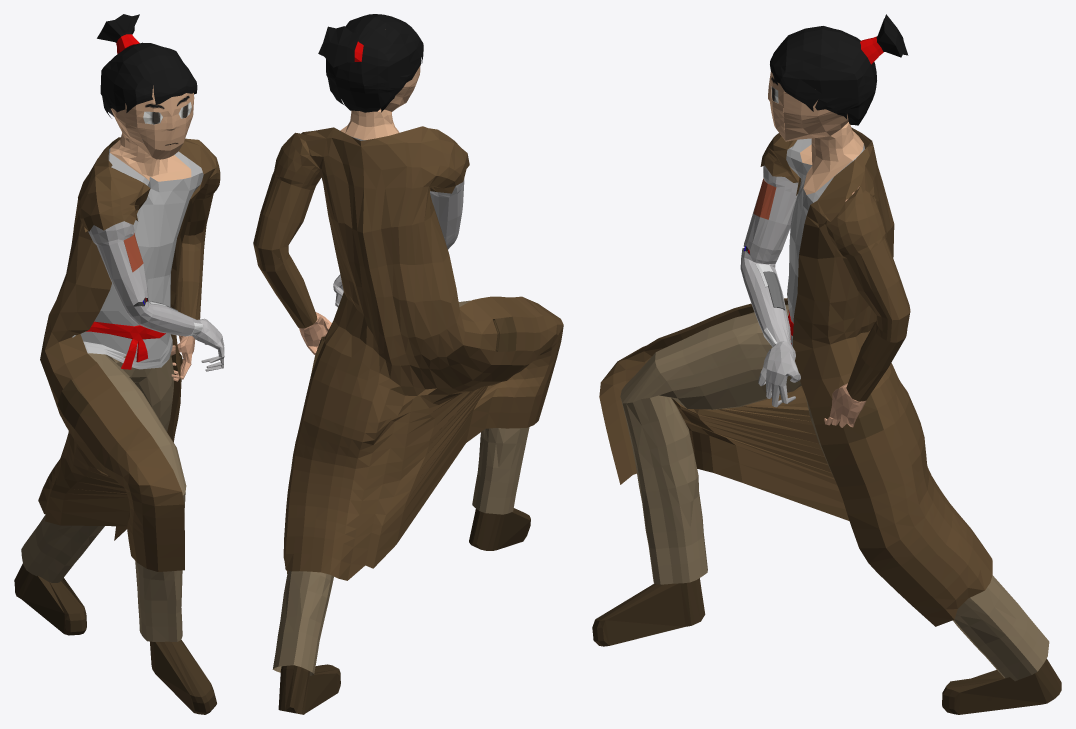
Rendered from One_RR_000000.obj.
3 renders of one model, left to right at view 1: azimuth 30°, elevation 25°; view 2: azimuth 150°, elevation 25°; view 3: azimuth 270°, elevation 25°, orthographic. The views are drawn at different scales.
Visible parts, largest first — view 1: Hair_Cube.004; view 2: Hair_Cube.004; view 3: Hair_Cube.004.
Part boxes in pixels (x1,y1,x2,y2): Hair_Cube.004: [14, 14, 224, 714]; Hair_Cube.004: [253, 14, 563, 714]; Hair_Cube.004: [592, 14, 1061, 714].
Size of the model in its own units: 1.19 by 3.67 by 2.23.
